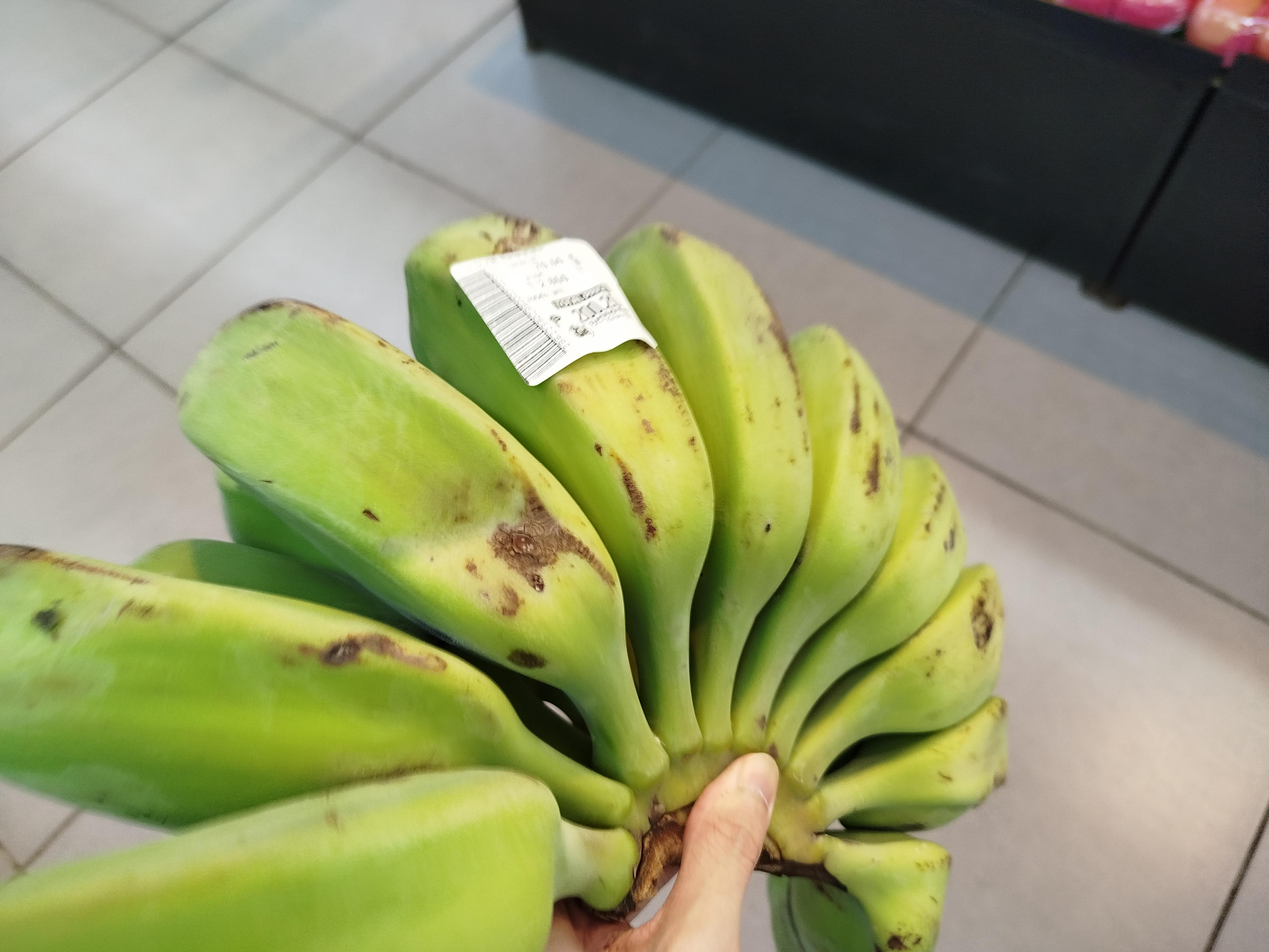underripe: (0, 215, 1006, 952)
